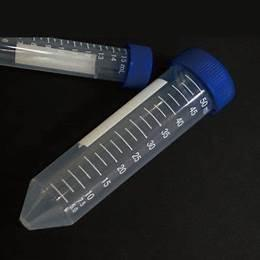Test tube: (15, 19, 223, 228)
